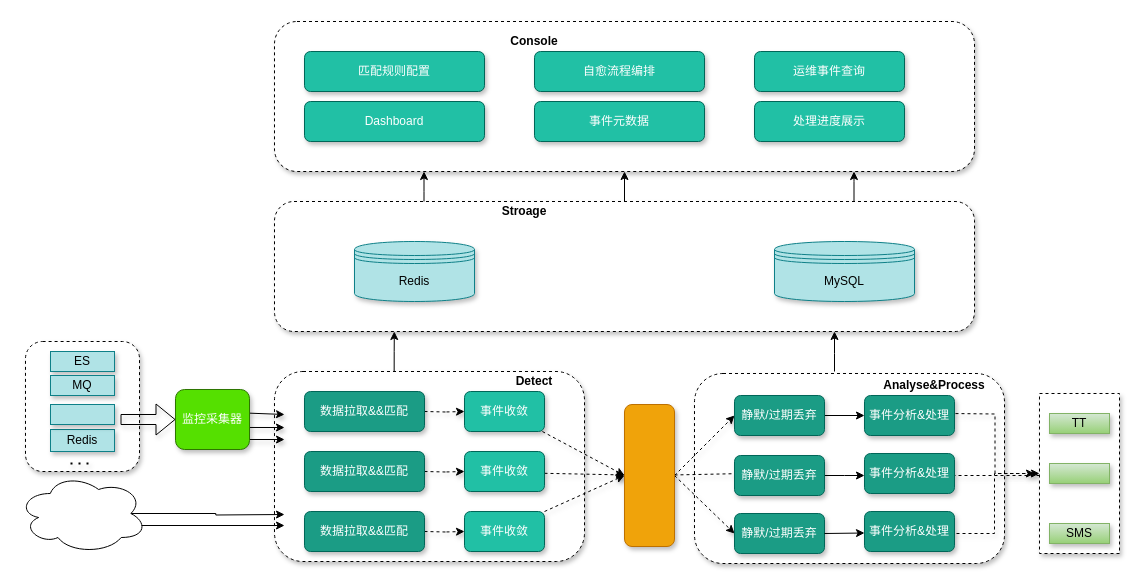
This 1143x588 diagram has some shape labels left out. Here are the shapes that lost their labels. From the top down, the centre of each, then its label:
the point at 83,416: ZK
the point at 650,477: 队列
the point at 1080,474: Email
the point at 82,513: 其他数据
